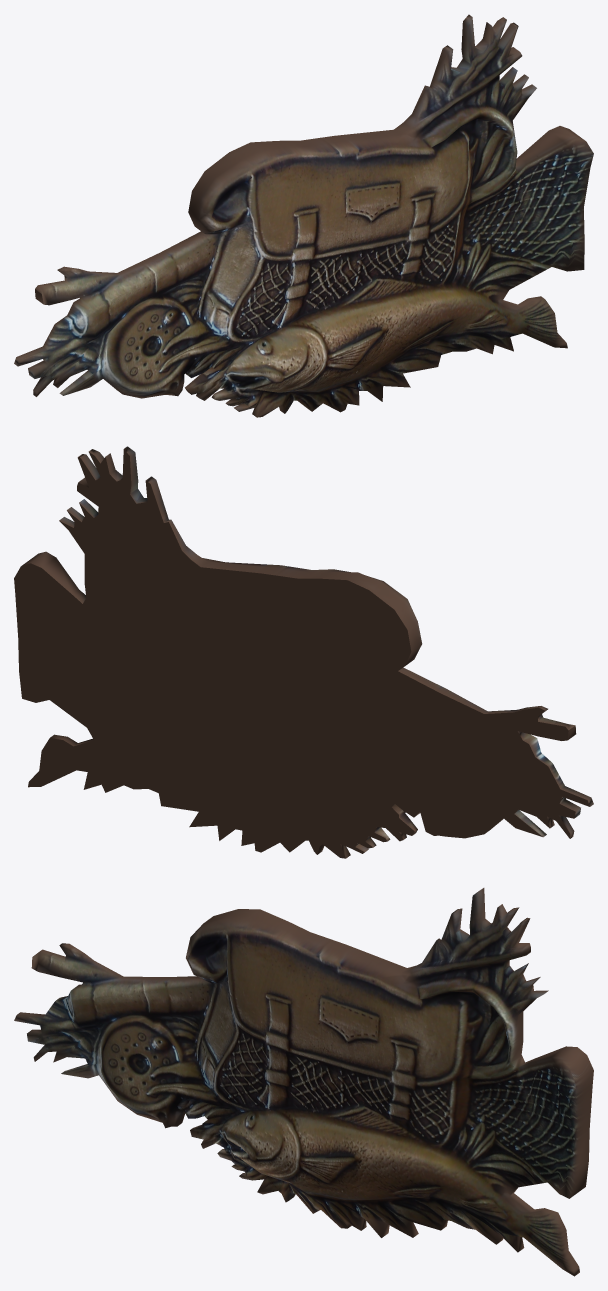
File: Art4597.fbx
The picture shows the model from 3 angles, top to bottom: view 1: azimuth 30°, elevation 25°; view 2: azimuth 150°, elevation 25°; view 3: azimuth 330°, elevation 25°; orthographic projection. The views are drawn at different scales.
Visible parts, largest first — view 1: Mesh_2; view 2: Mesh_2; view 3: Mesh_2.
Boxes of the visible parts, x1,y1,x2,y2 form: Mesh_2: [14, 14, 593, 417]; Mesh_2: [14, 446, 593, 858]; Mesh_2: [14, 888, 593, 1276].
Size of the model in its own units: 17.86 by 10.96 by 1.12.
Materials: 1 (1 with a texture image).
